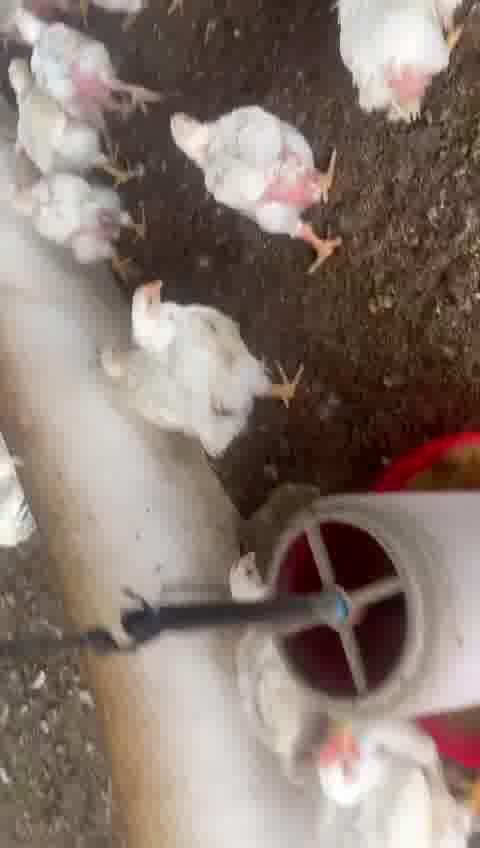Normal: (170, 109, 346, 268), (15, 14, 160, 121), (5, 175, 146, 274)
